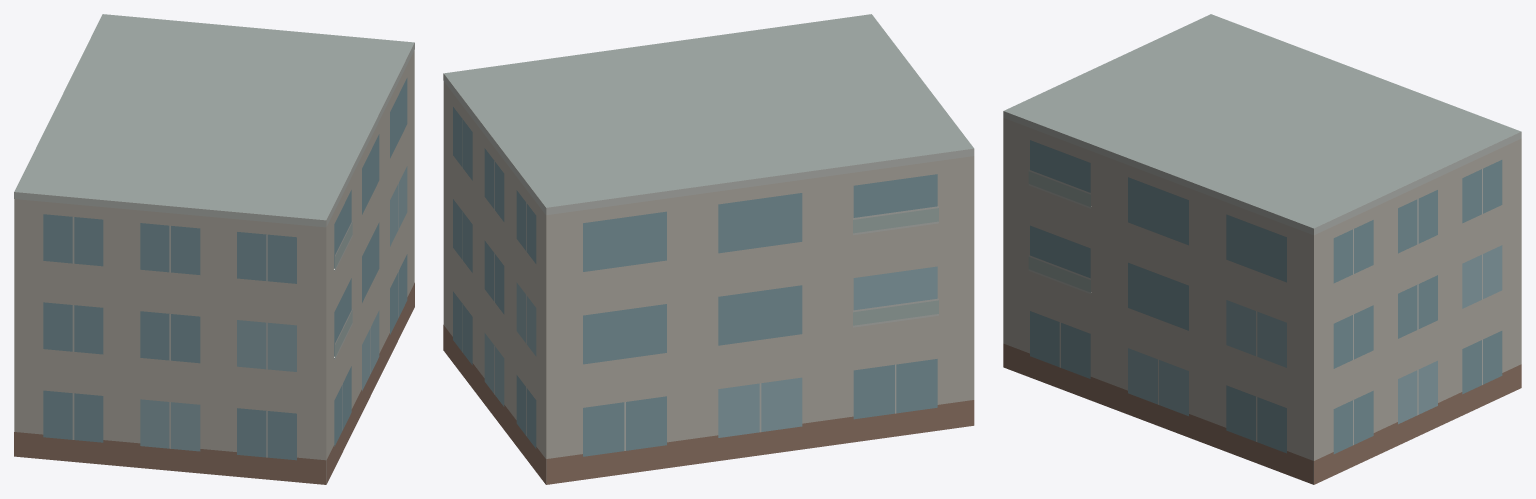
The model's file is survey-upis-32722088.glb.
3 views of the same model, side by side, from view 1: azimuth 30°, elevation 25°; view 2: azimuth 150°, elevation 25°; view 3: azimuth 270°, elevation 25° (orthographic). The views are drawn at different scales.
Parts seen in each view (by area): view 1: survey-upis-32722088.tmp; view 2: survey-upis-32722088.tmp; view 3: survey-upis-32722088.tmp.
Part boxes in pixels (x1,y1,x2,y2): survey-upis-32722088.tmp: (14,14,414,484); survey-upis-32722088.tmp: (443,14,974,484); survey-upis-32722088.tmp: (1003,14,1521,484).
Bounding box in the file's own units: 16.43 × 9.15 × 16.77.
